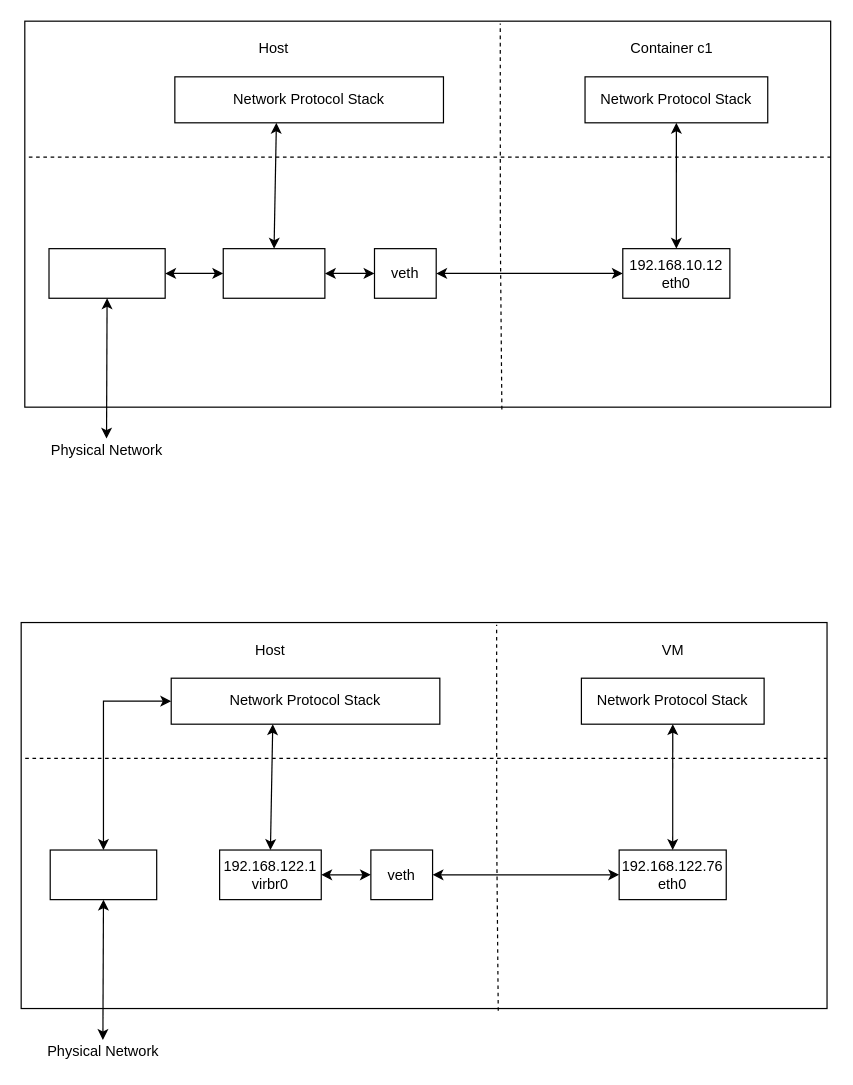
Image size: 853x1085. Some labels were removed from this diagram. The box of each missing label's shape, as (x1, y1, x2, y2) in pixels:
192.168.10.1 virbr0: (222, 247, 325, 298)
192.168.122.12 eth0: (49, 849, 157, 900)
192.168.122.231 eth0: (48, 247, 165, 298)
